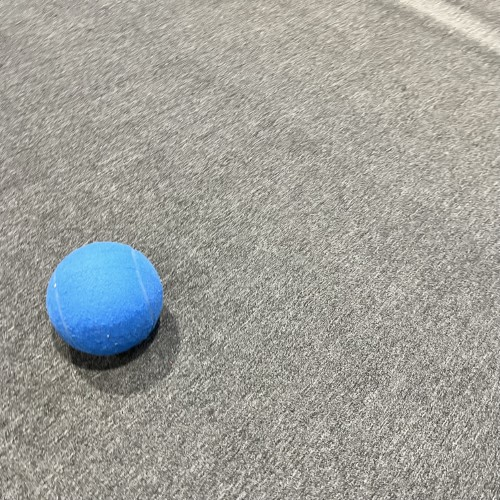blue: (44, 240, 165, 359)
